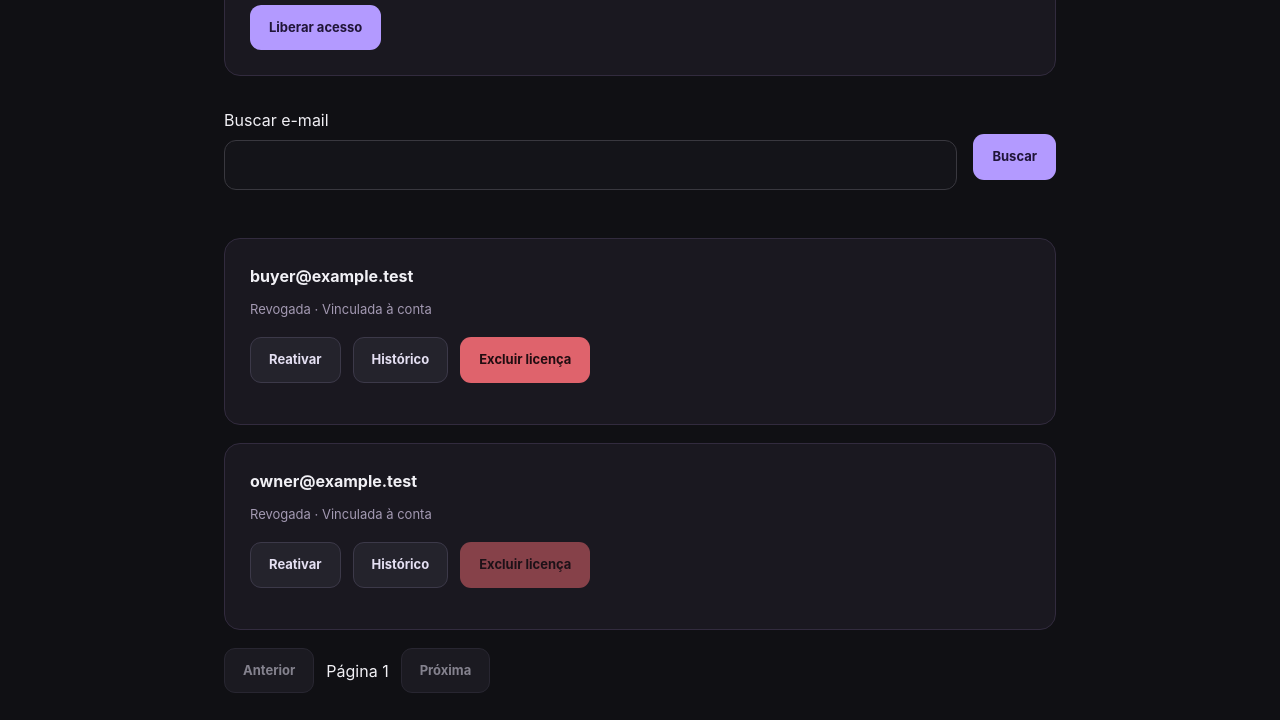
Test case: keeps the row and confirmation after a failed request without claiming the deletion did not happen
(page scrolled)
Click the button "Excluir licença" below "buyer@example.test" at (525, 360), box 460,337 -> 590,383
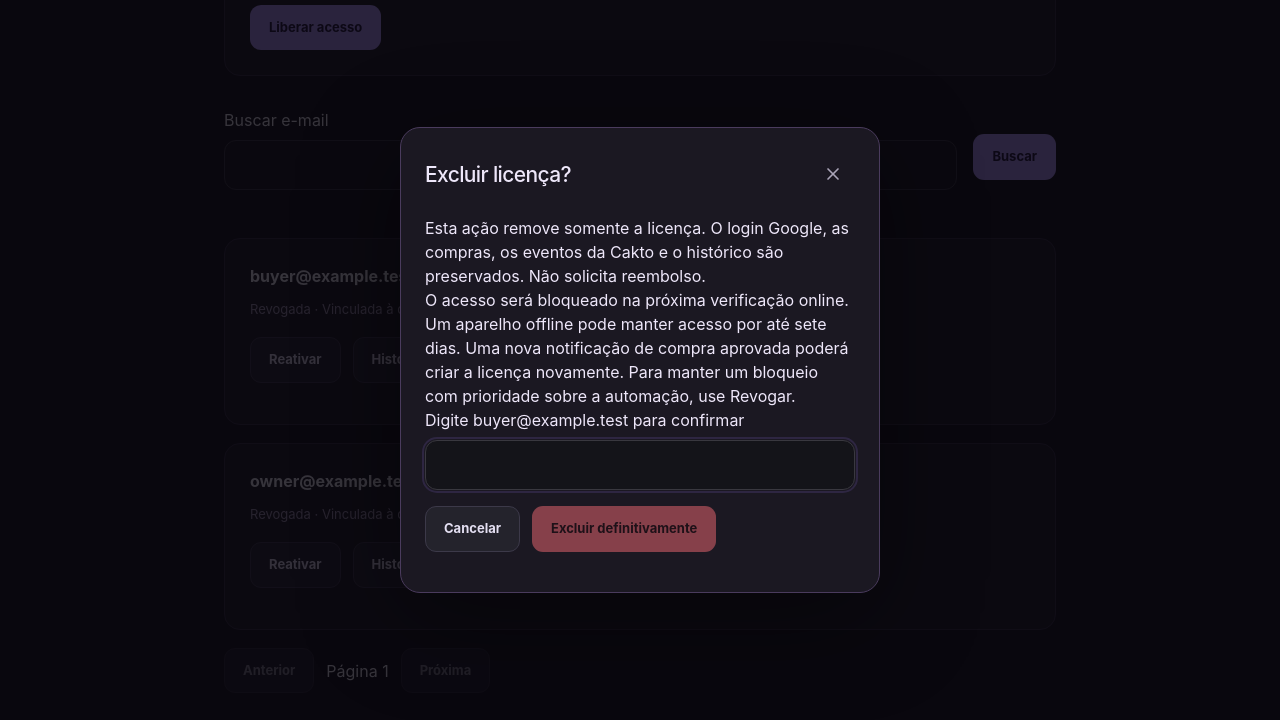
Type "buyer@example.test" into the field at (640, 465), box 425,440 -> 855,490
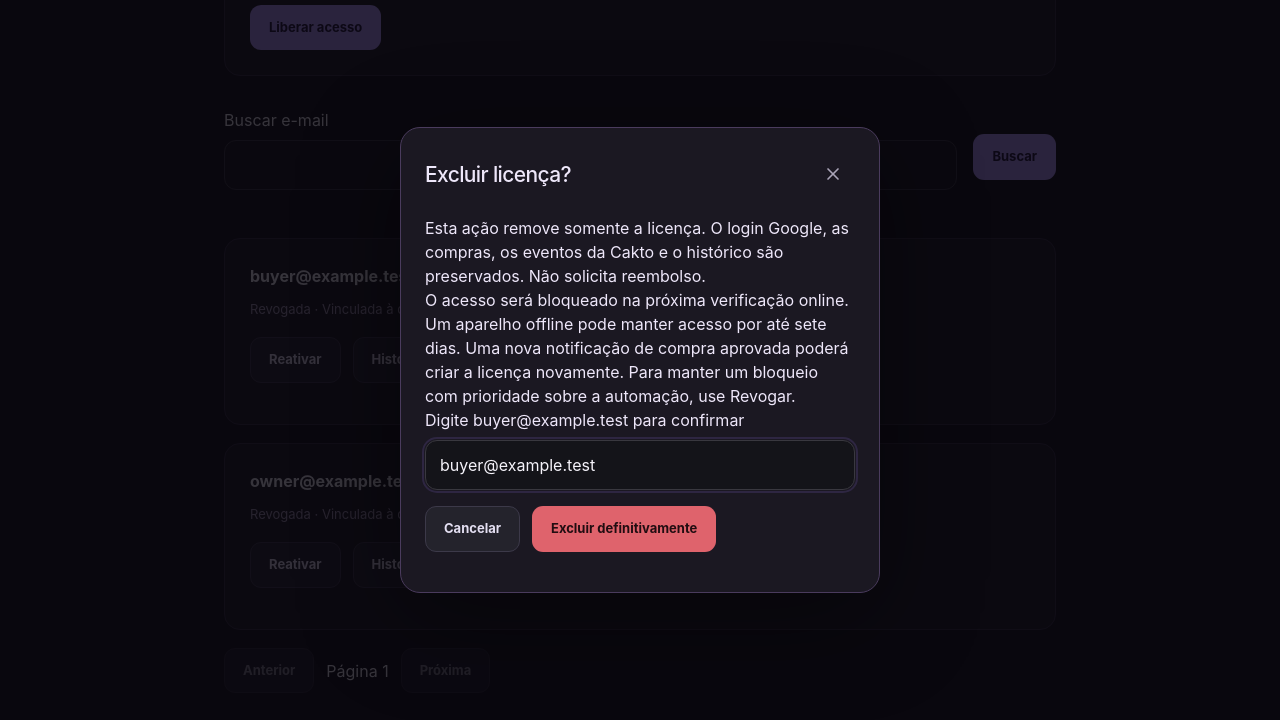
Click the button "Excluir definitivamente" at (624, 529), box 532,506 -> 716,552
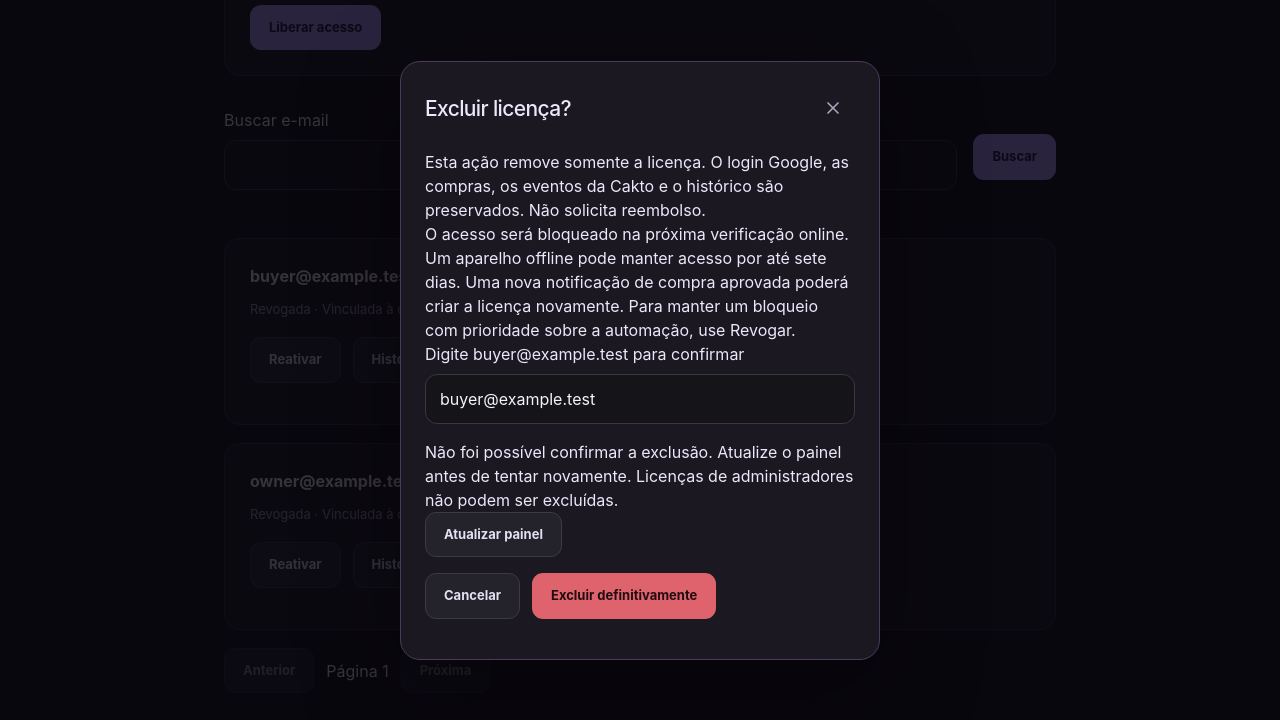
Expected: the text "buyer@example.test" is shown, 250,266 -> 413,286
Result: the button "Excluir definitivamente" is enabled at 532,573 -> 716,618
Result: the message shows "Atualize o painel" at 425,442 -> 853,510
